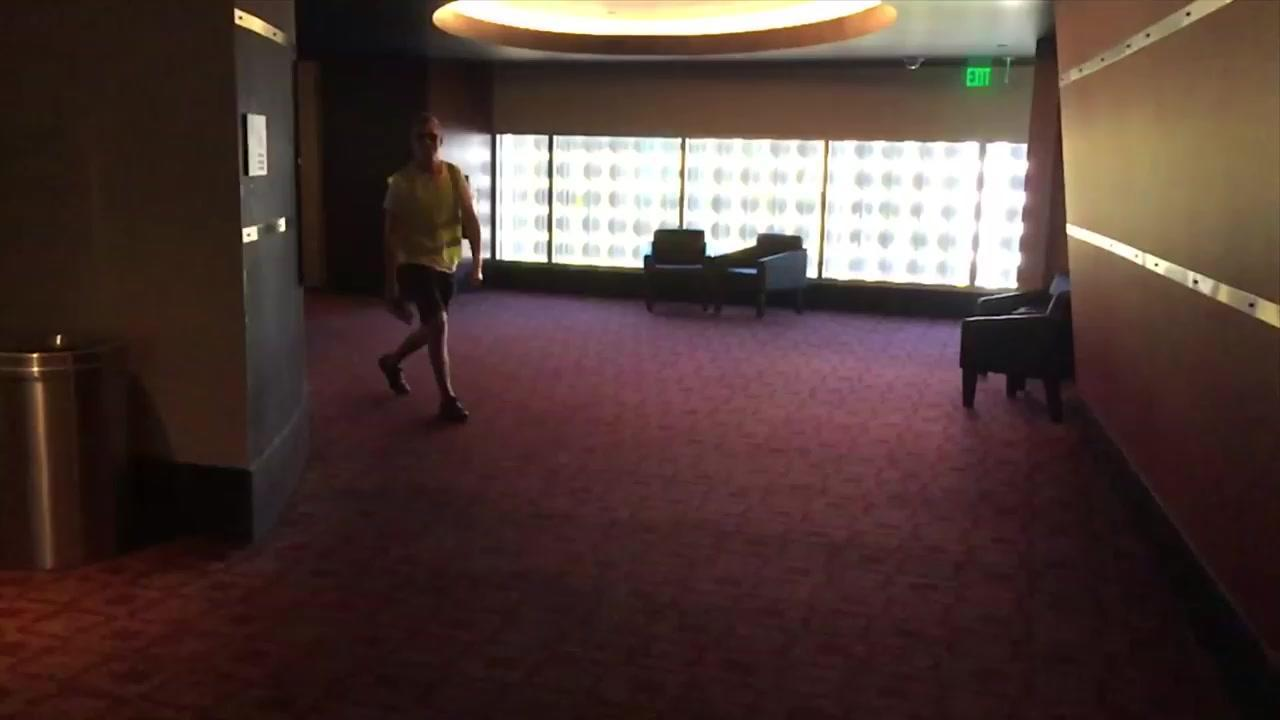vest: (386, 160, 464, 273)
